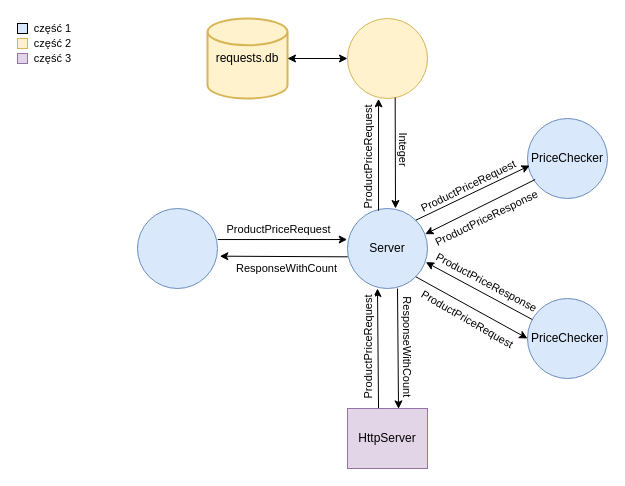
The diagram is 625 pixels wide and 486 high, and some of its shapes have lost their labels. Each missing label, with the centre of its shape:
Client: [177,248]
DbActor: [387,58]
